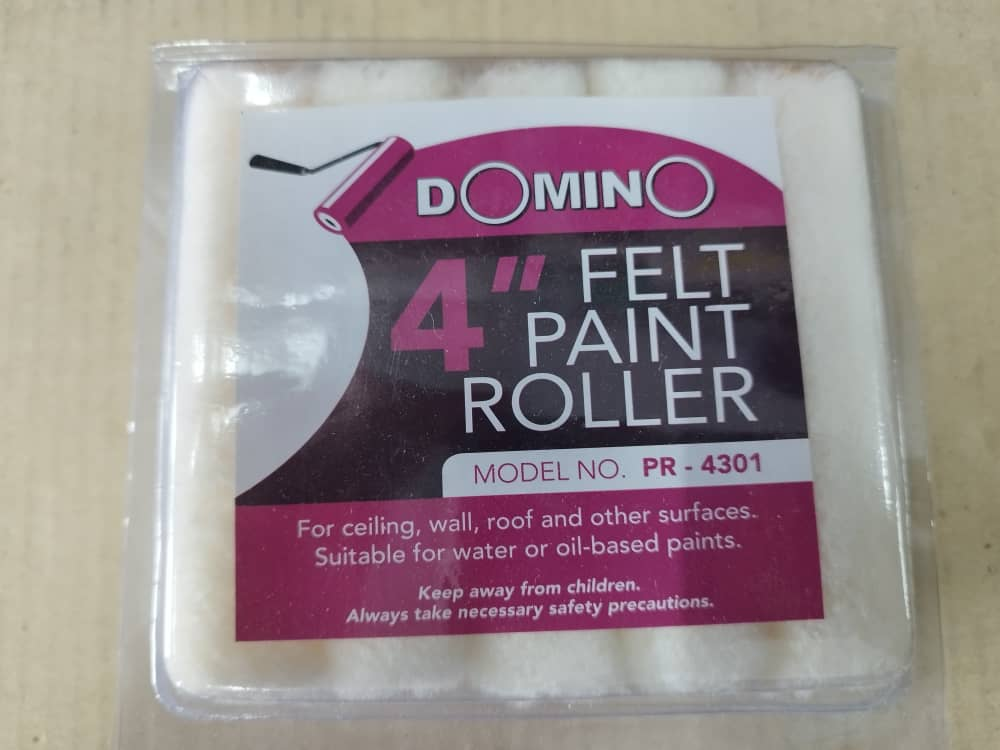sku_paint_roller: (226, 112, 861, 655)
